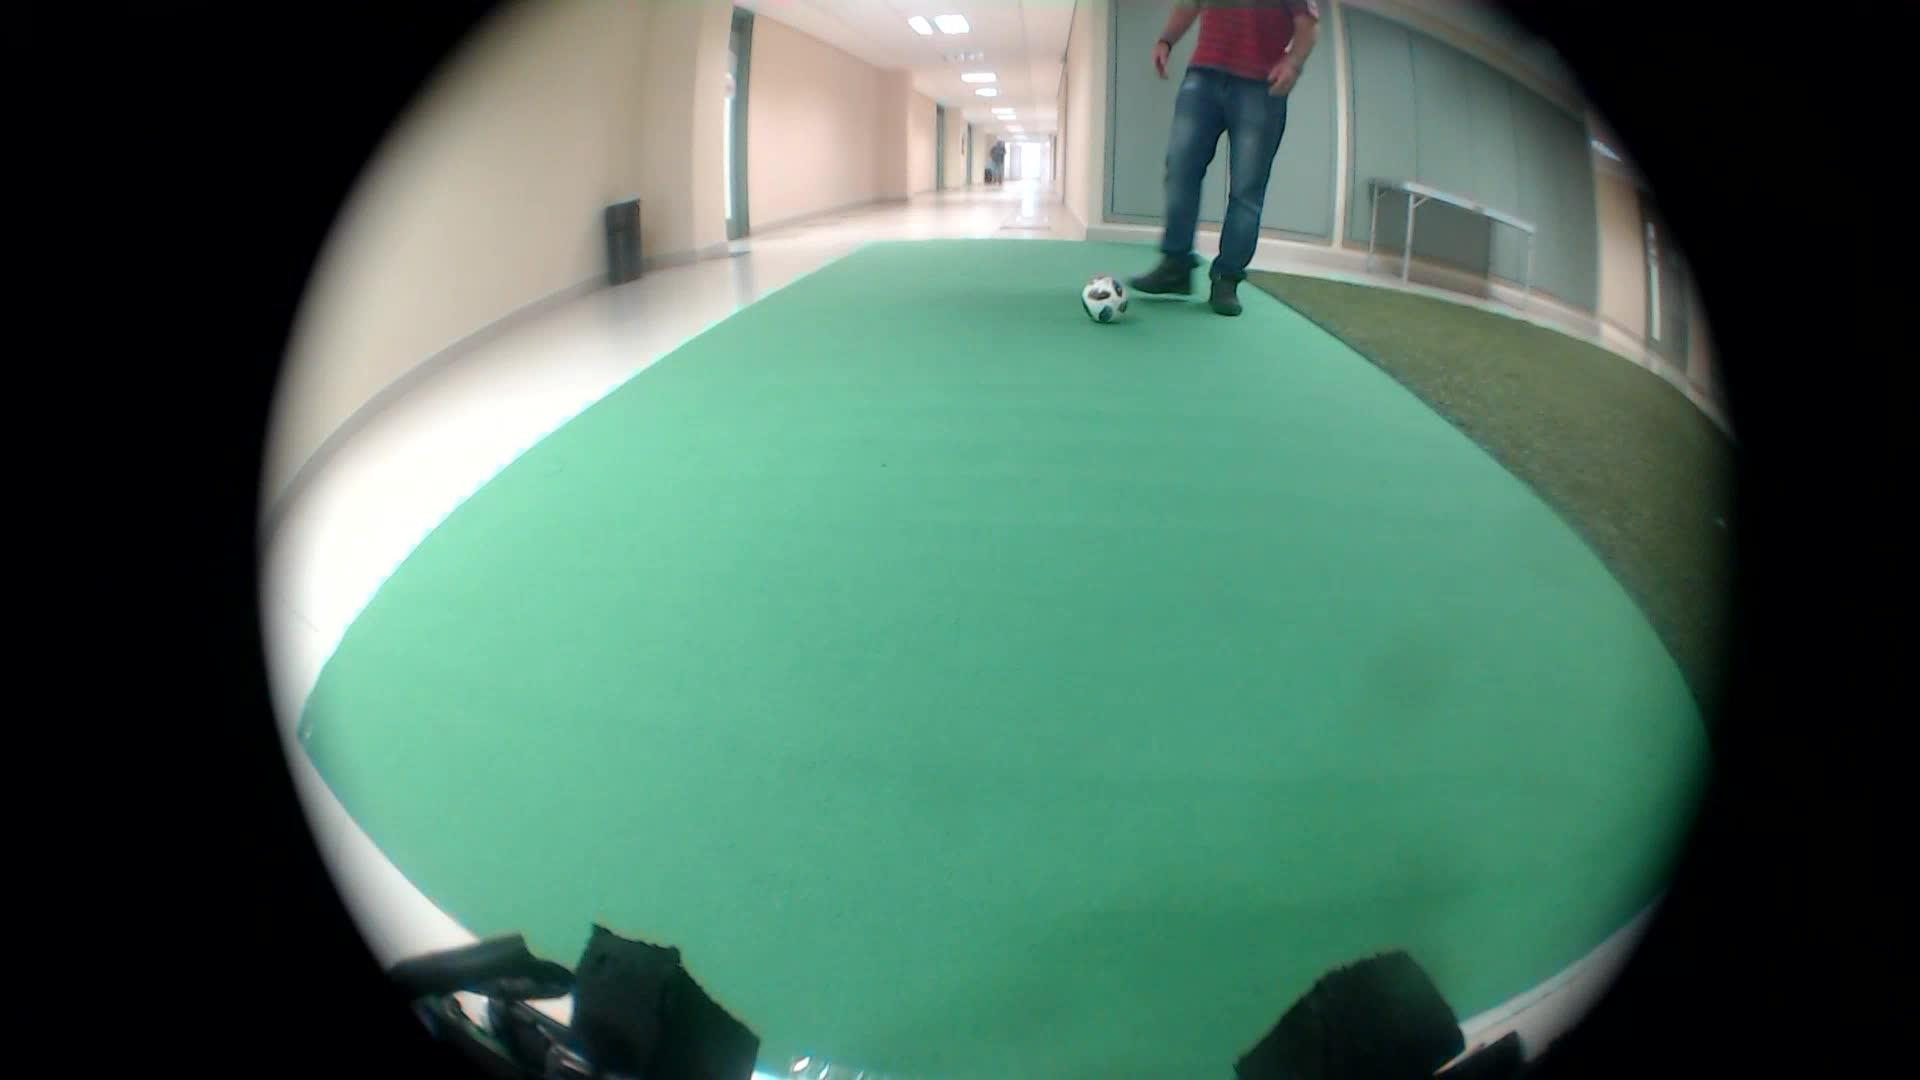ball: (1077, 274, 1138, 334)
